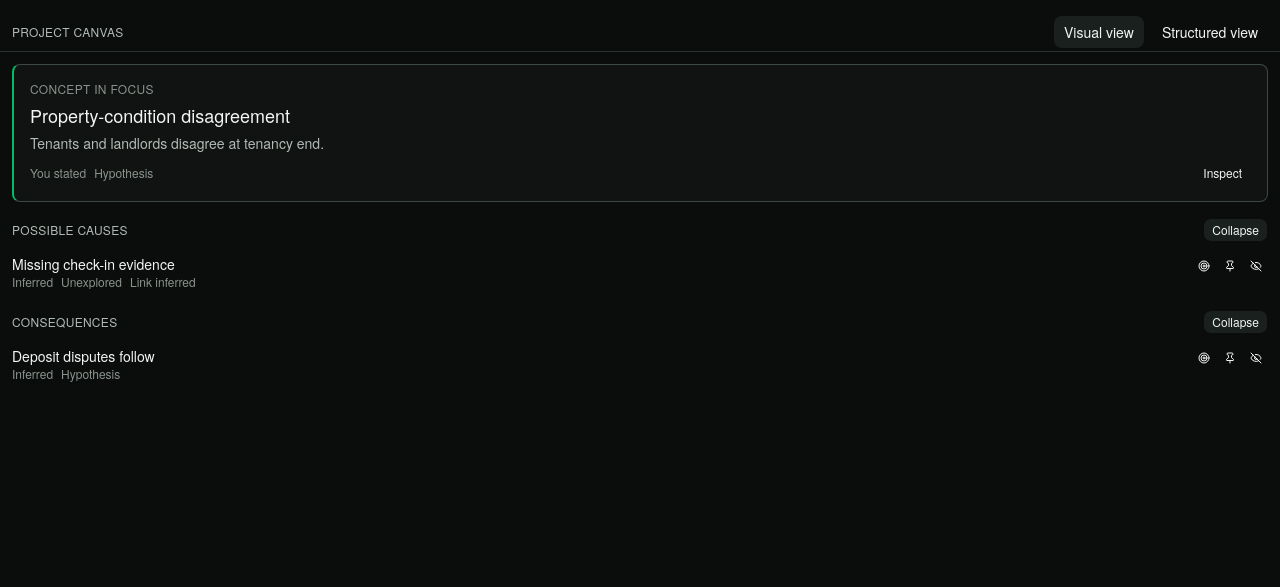
Test: problem-exploration renderer › hands an object from the inspector to the map
This screenshot has width=1280, height=587.
Click the radio button labelled "Structured view" at (1210, 32), box [1152, 16, 1268, 48]
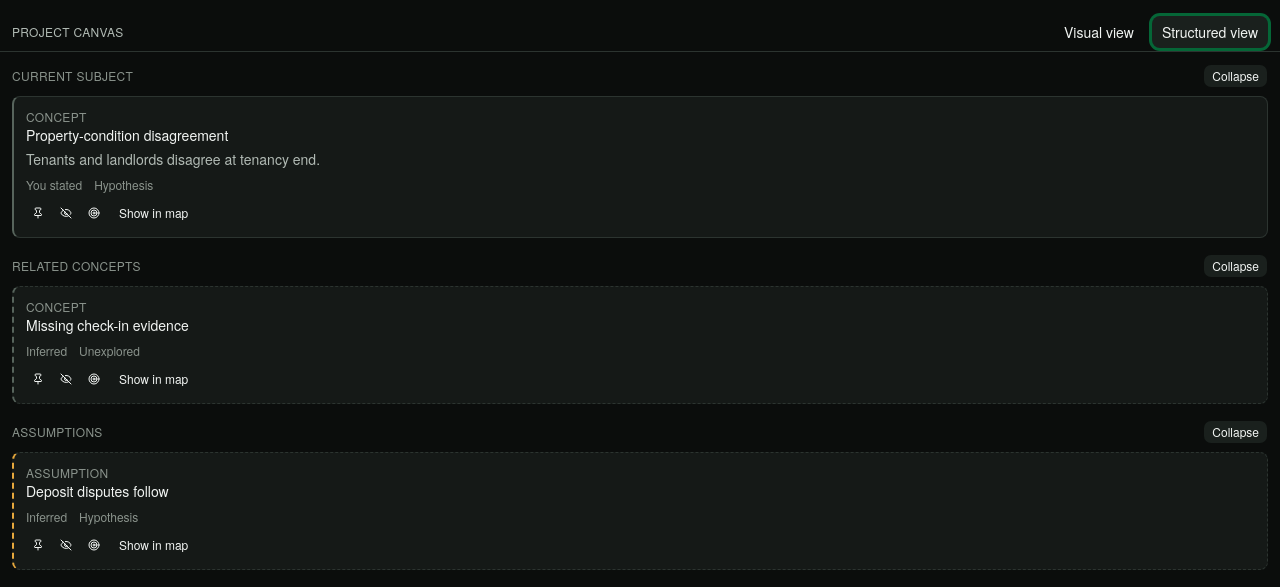
Click the button with aria-label "Show Deposit disputes follow in the relationship map" at (154, 545), box [110, 533, 197, 557]
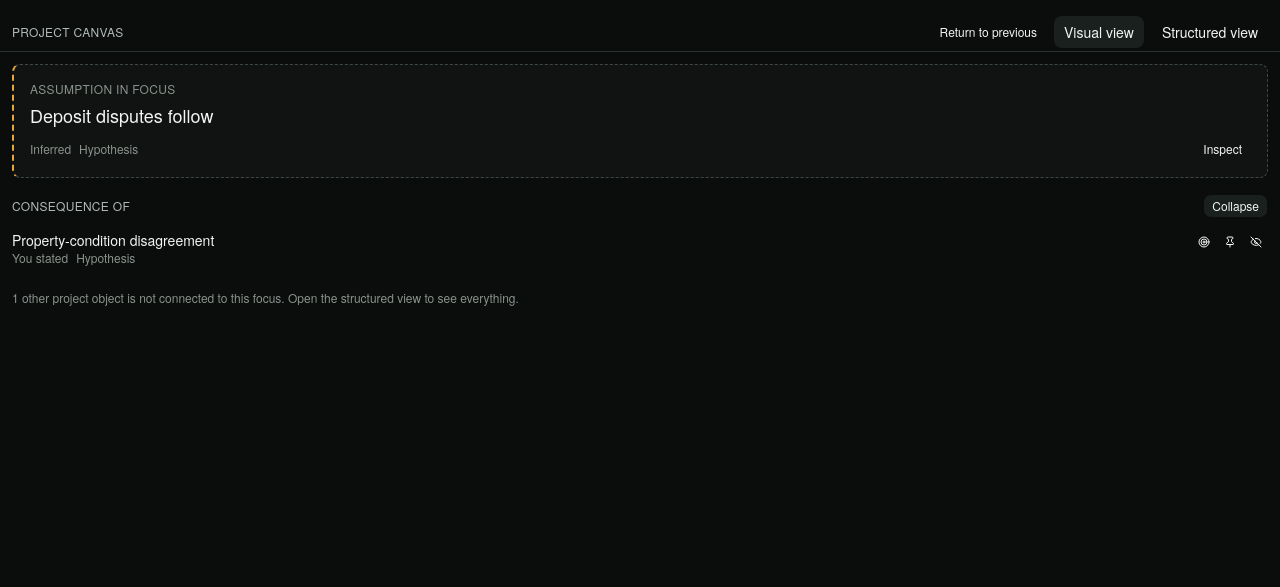
Expected: the element named "Object in focus" shows "Deposit disputes follow", [30, 102, 213, 128]
